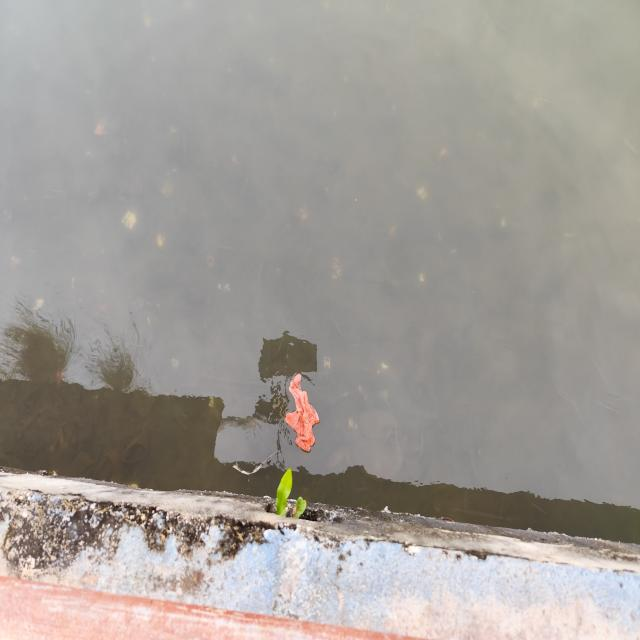Kantong Plastik: (283, 370, 325, 458)
